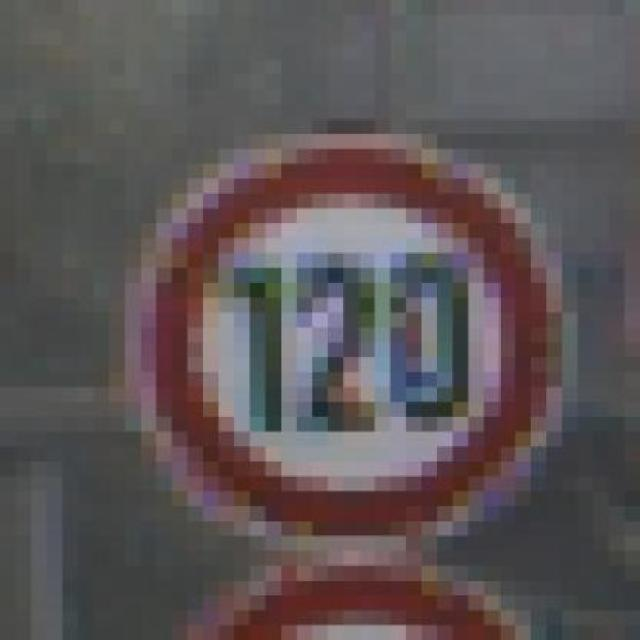forb_speed_over_120: (146, 146, 557, 542)
